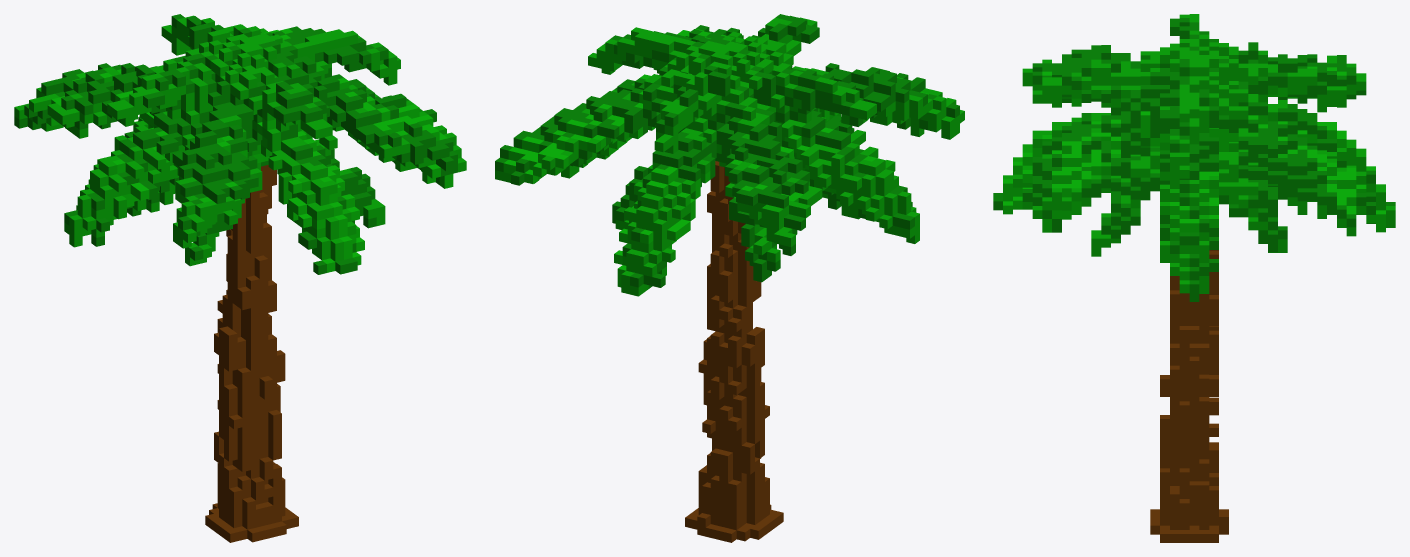
File: palmTree.glb
3 renders of one model, left to right at view 1: azimuth 30°, elevation 25°; view 2: azimuth 150°, elevation 25°; view 3: azimuth 270°, elevation 25°, orthographic.
Parts seen in each view (by area): view 1: Node1; view 2: Node1; view 3: Node1.
Boxes of the visible parts, x1,y1,x2,y2 form: Node1: (14, 14, 466, 542); Node1: (495, 14, 964, 542); Node1: (993, 14, 1395, 542).
Bounding box in the file's own units: 4.2 × 5.3 × 4.1.
1 material, 1 textured.
